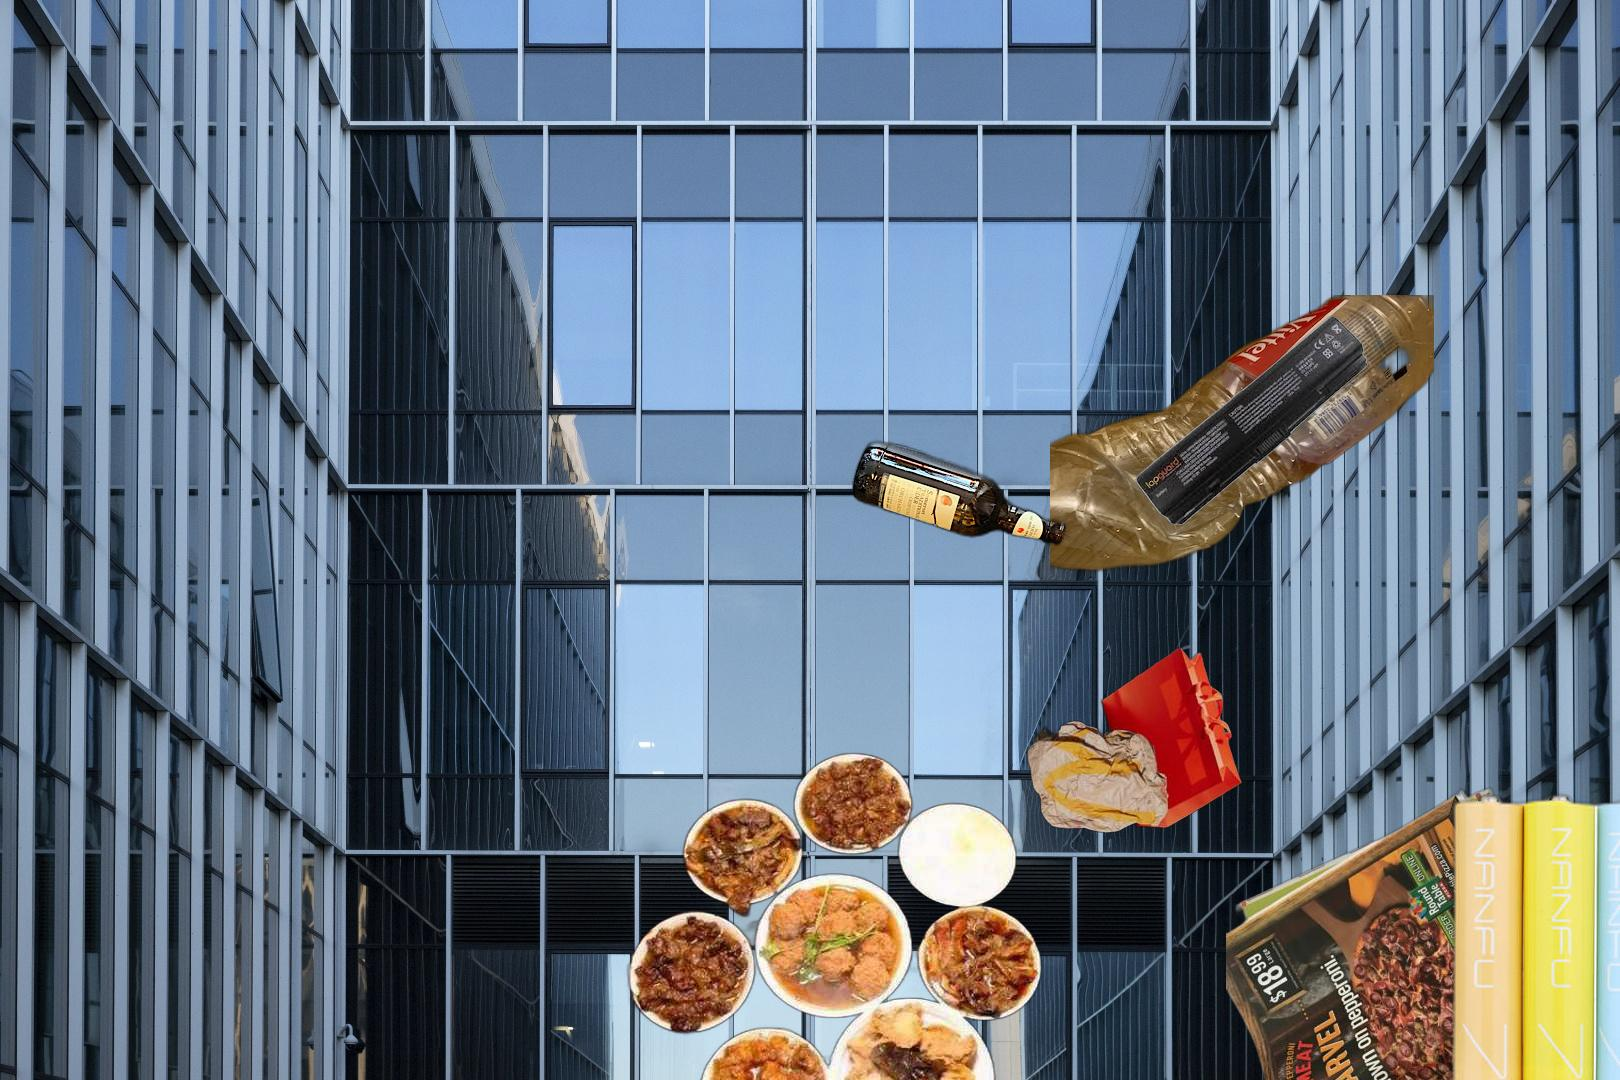battery: (1446, 788, 1620, 1080), (1134, 315, 1370, 527)
biological: (622, 749, 1047, 1080)
glass: (849, 435, 1070, 551)
paper: (1226, 786, 1620, 1080)
paper-bag: (980, 611, 1245, 877)
plastic-bottles: (1050, 295, 1434, 575)
